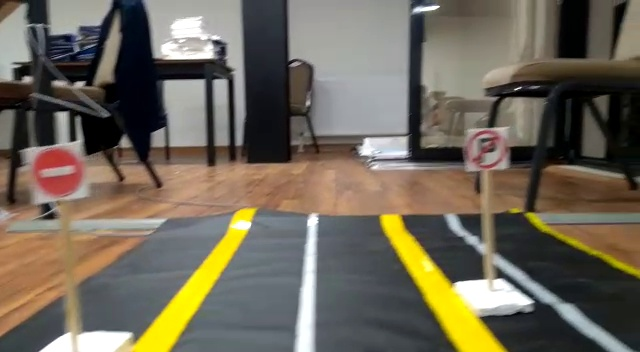girisi_olmayan_yol: (30, 147, 89, 197)
park_yapilmaz: (464, 126, 509, 171)
